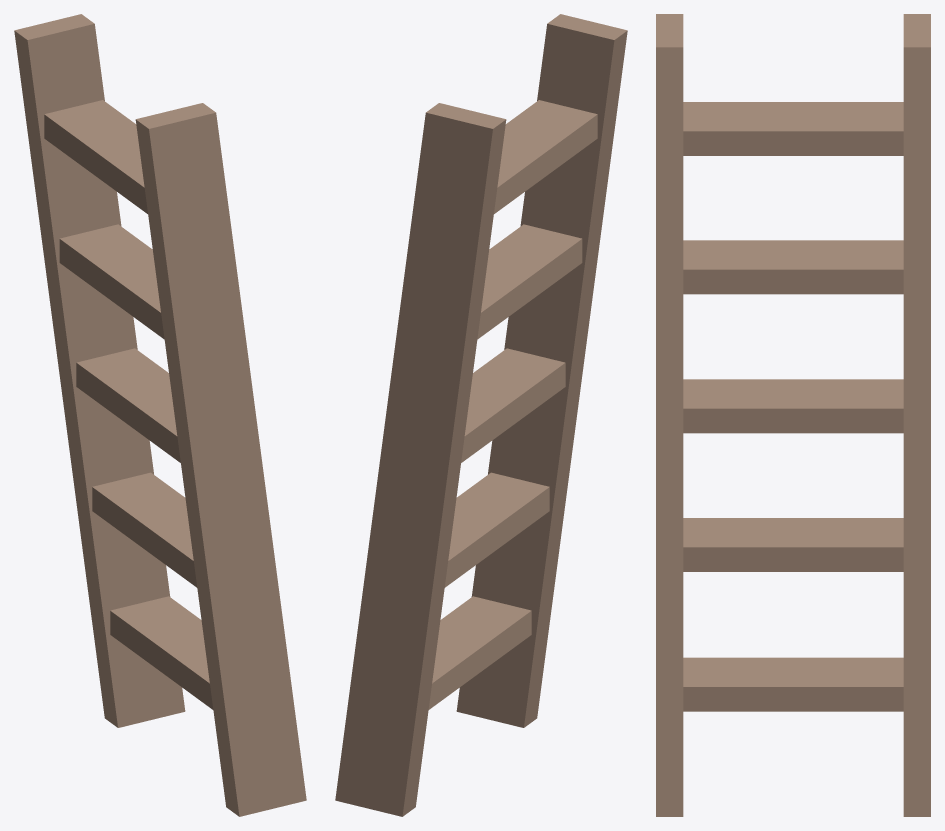
The model's file is Ladder_231109.glb.
3 renders of one model, left to right at view 1: azimuth 30°, elevation 25°; view 2: azimuth 150°, elevation 25°; view 3: azimuth 270°, elevation 25°, orthographic. The views are drawn at different scales.
Visible parts, largest first — view 1: Ladder; view 2: Ladder; view 3: Ladder.
Boxes of the visible parts, box(x1,y1,x2,y2) form: Ladder: box(14, 14, 306, 816); Ladder: box(335, 14, 627, 816); Ladder: box(656, 14, 930, 816).
Size of the model in its own units: 0.4569 by 1.96 by 0.6754.
Materials: 1 (1 with a texture image).
